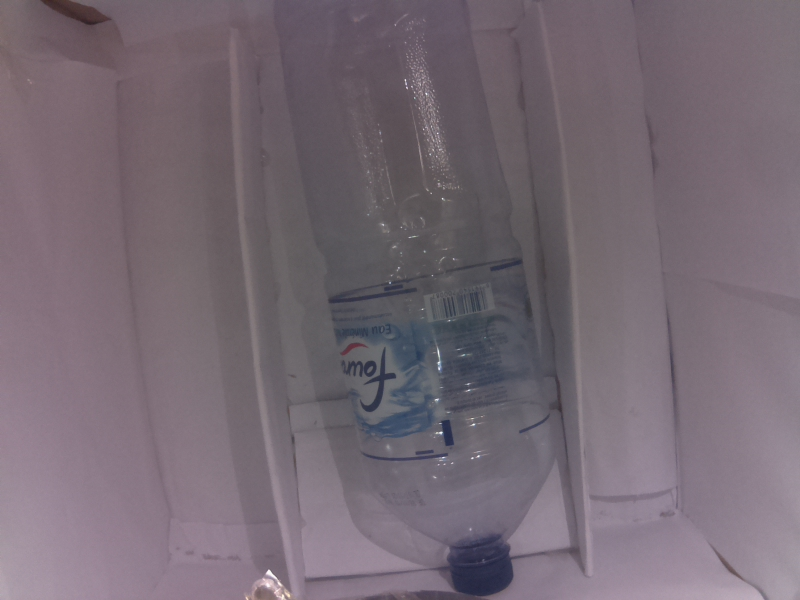botolplastik: (271, 1, 560, 594)
